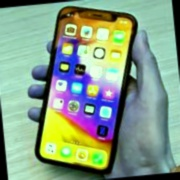iphone: (36, 4, 152, 176)
